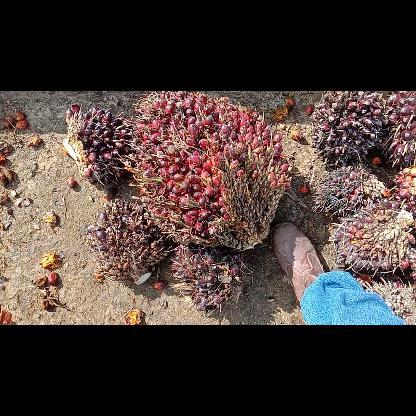TBS abnormal: (91, 197, 165, 288), (63, 108, 135, 192), (176, 243, 246, 315)
TBS masak: (131, 91, 292, 253)
